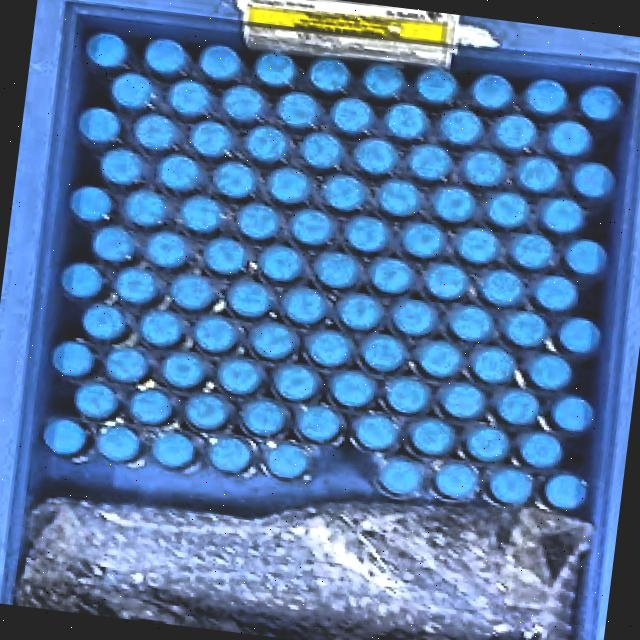vial: (34, 417, 86, 460), (304, 54, 354, 98), (78, 302, 130, 344), (65, 182, 115, 225), (390, 298, 440, 340), (193, 314, 242, 356), (544, 473, 593, 515), (74, 104, 123, 145), (578, 81, 625, 123), (306, 329, 354, 370), (222, 280, 271, 320), (262, 443, 312, 482), (82, 31, 132, 70), (112, 266, 163, 304), (96, 423, 142, 465), (120, 188, 170, 226), (557, 317, 604, 357), (168, 274, 215, 314), (55, 262, 102, 302), (439, 382, 486, 422), (488, 468, 535, 508), (50, 338, 94, 380), (144, 230, 190, 270), (208, 437, 254, 477), (214, 359, 261, 398), (142, 40, 190, 78), (200, 236, 248, 274), (250, 324, 298, 362), (430, 188, 480, 224), (330, 369, 376, 408), (358, 335, 405, 373), (271, 364, 318, 402), (349, 412, 396, 450), (148, 432, 195, 470), (161, 352, 206, 391), (550, 120, 596, 158), (197, 42, 243, 80), (278, 284, 324, 322), (550, 397, 596, 435), (408, 418, 454, 456), (96, 149, 143, 186), (524, 356, 572, 392), (524, 76, 568, 115), (132, 113, 177, 151), (177, 197, 223, 234), (109, 74, 156, 110), (572, 162, 616, 200), (470, 346, 514, 384), (384, 378, 428, 416), (240, 400, 284, 438), (324, 173, 369, 210), (236, 205, 281, 242), (504, 310, 549, 347), (137, 311, 182, 348), (210, 162, 256, 198), (495, 390, 541, 426), (256, 245, 300, 282), (104, 346, 148, 383), (507, 232, 552, 268), (351, 136, 396, 172), (315, 254, 360, 290), (406, 142, 452, 177), (188, 124, 234, 159), (126, 391, 172, 426), (384, 104, 426, 142), (426, 264, 468, 302), (448, 306, 491, 343), (300, 133, 344, 169), (264, 166, 308, 202), (344, 218, 388, 254), (532, 277, 576, 313), (294, 406, 338, 442), (380, 459, 424, 495), (375, 181, 420, 216), (73, 384, 115, 421), (466, 425, 508, 462), (164, 80, 207, 116), (246, 126, 289, 162), (371, 260, 414, 296), (479, 270, 522, 306), (517, 430, 560, 466), (336, 295, 380, 330), (359, 62, 404, 96), (277, 95, 322, 129), (156, 154, 201, 188), (288, 210, 329, 247), (494, 114, 536, 150), (540, 198, 584, 232), (464, 149, 506, 184), (221, 86, 264, 120), (488, 192, 528, 228), (418, 343, 459, 378), (186, 395, 227, 430), (518, 156, 560, 190), (416, 68, 458, 102), (332, 98, 374, 132), (254, 52, 296, 86), (456, 230, 498, 264), (92, 227, 134, 261), (434, 464, 474, 499), (471, 72, 512, 106), (401, 224, 442, 258), (438, 109, 479, 142), (567, 241, 605, 276)
